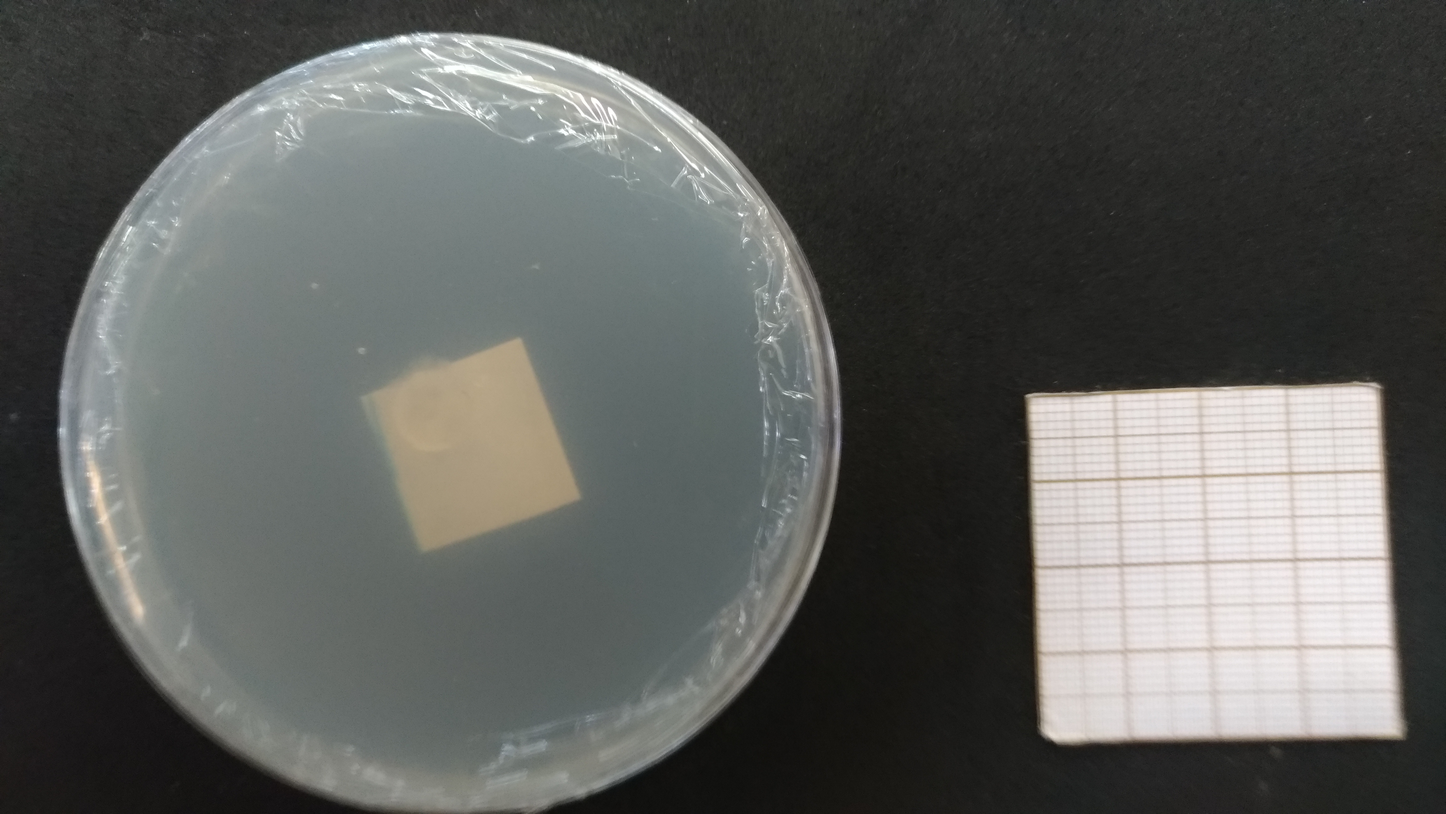escala: (1027, 383, 1402, 740)
fungo: (384, 355, 474, 457)
